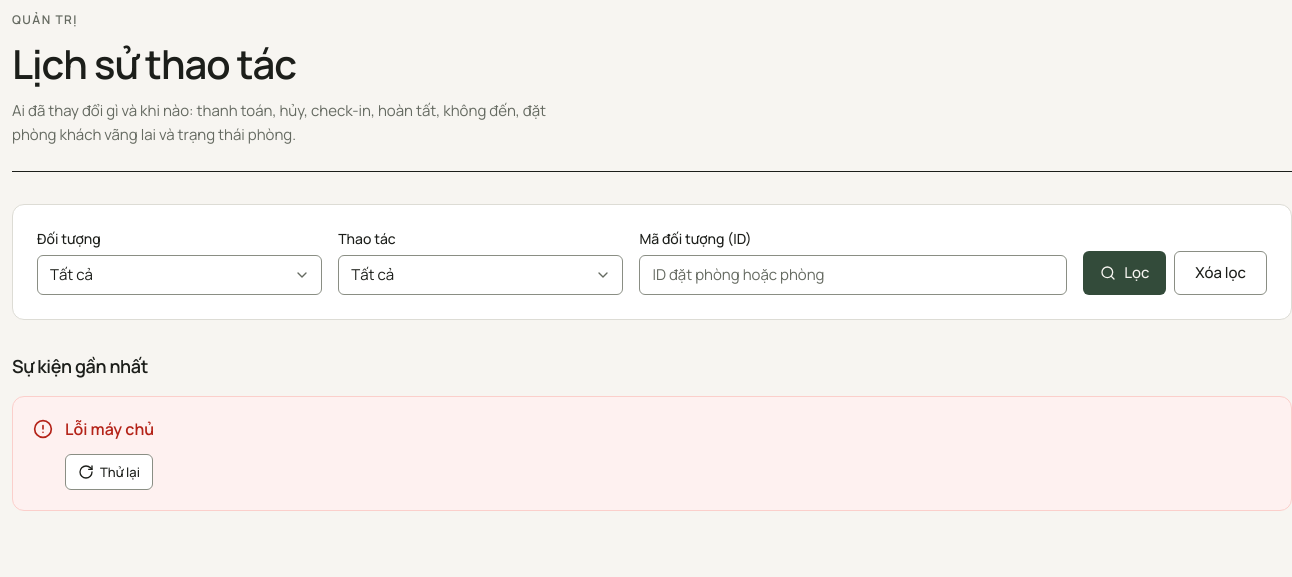
Test: AdminAuditPage (CWB-67) › shows empty and retryable error states
This screenshot has width=1292, height=577.
Check: the text "Lỗi máy chủ" is shown, box [65, 418, 154, 440]
Click the button with test id "audit-retry" at (109, 472), box [65, 454, 153, 490]
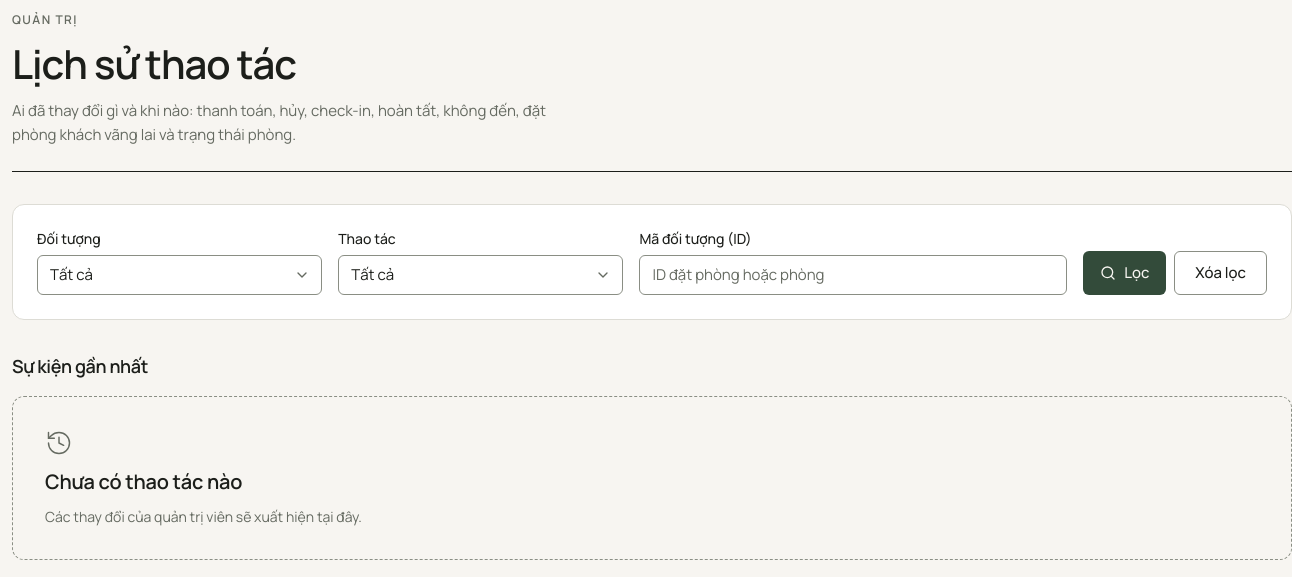
Check: the heading "Chưa có thao tác nào" is shown, box [45, 469, 242, 495]
